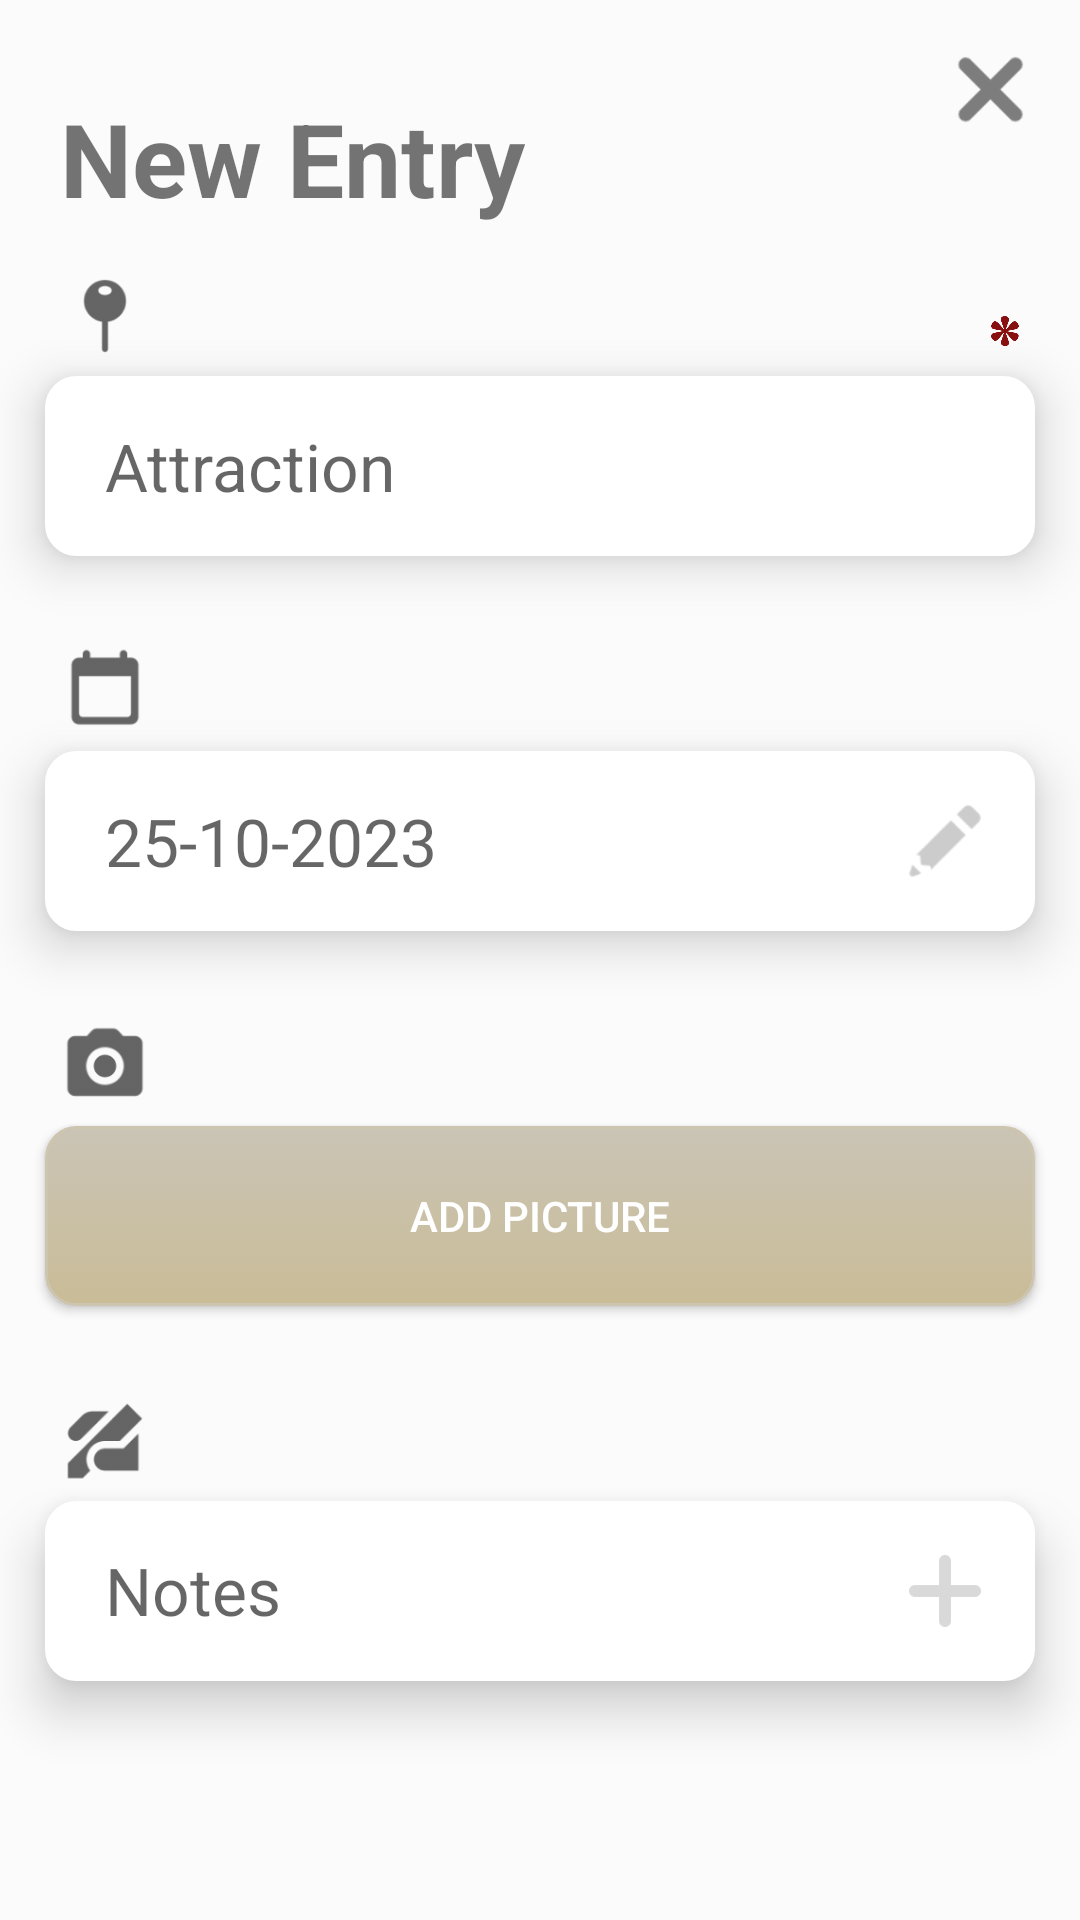

Named icons in this screenshot (1080x1920) and their bounding boxes, (x1, y1, x2, y2):
add: (909, 1555, 981, 1627)
calendar: (71, 650, 139, 725)
camera: (67, 1028, 143, 1097)
close: (958, 57, 1023, 122)
edit: (910, 806, 981, 876)
map pin: (83, 280, 127, 352)
required: (991, 316, 1019, 346)
